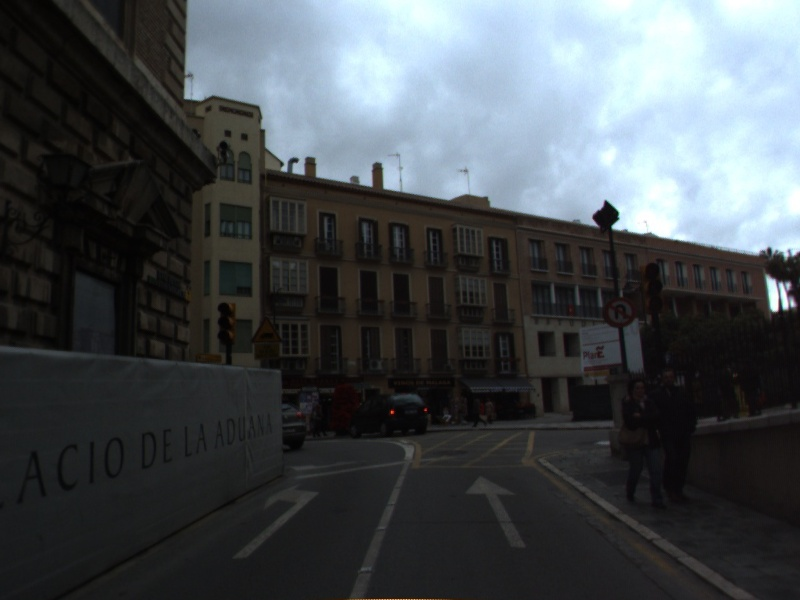LEFT: (229, 481, 323, 562)
STRAIGHT: (462, 473, 531, 551)
